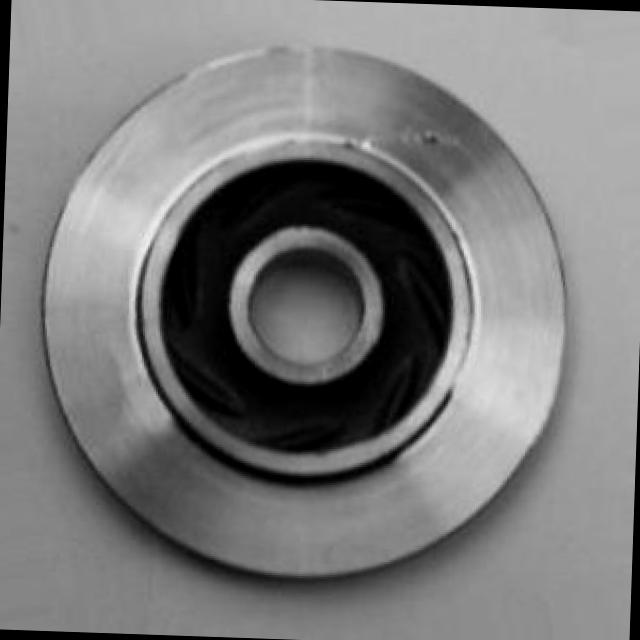Defect: (406, 115, 464, 164)
